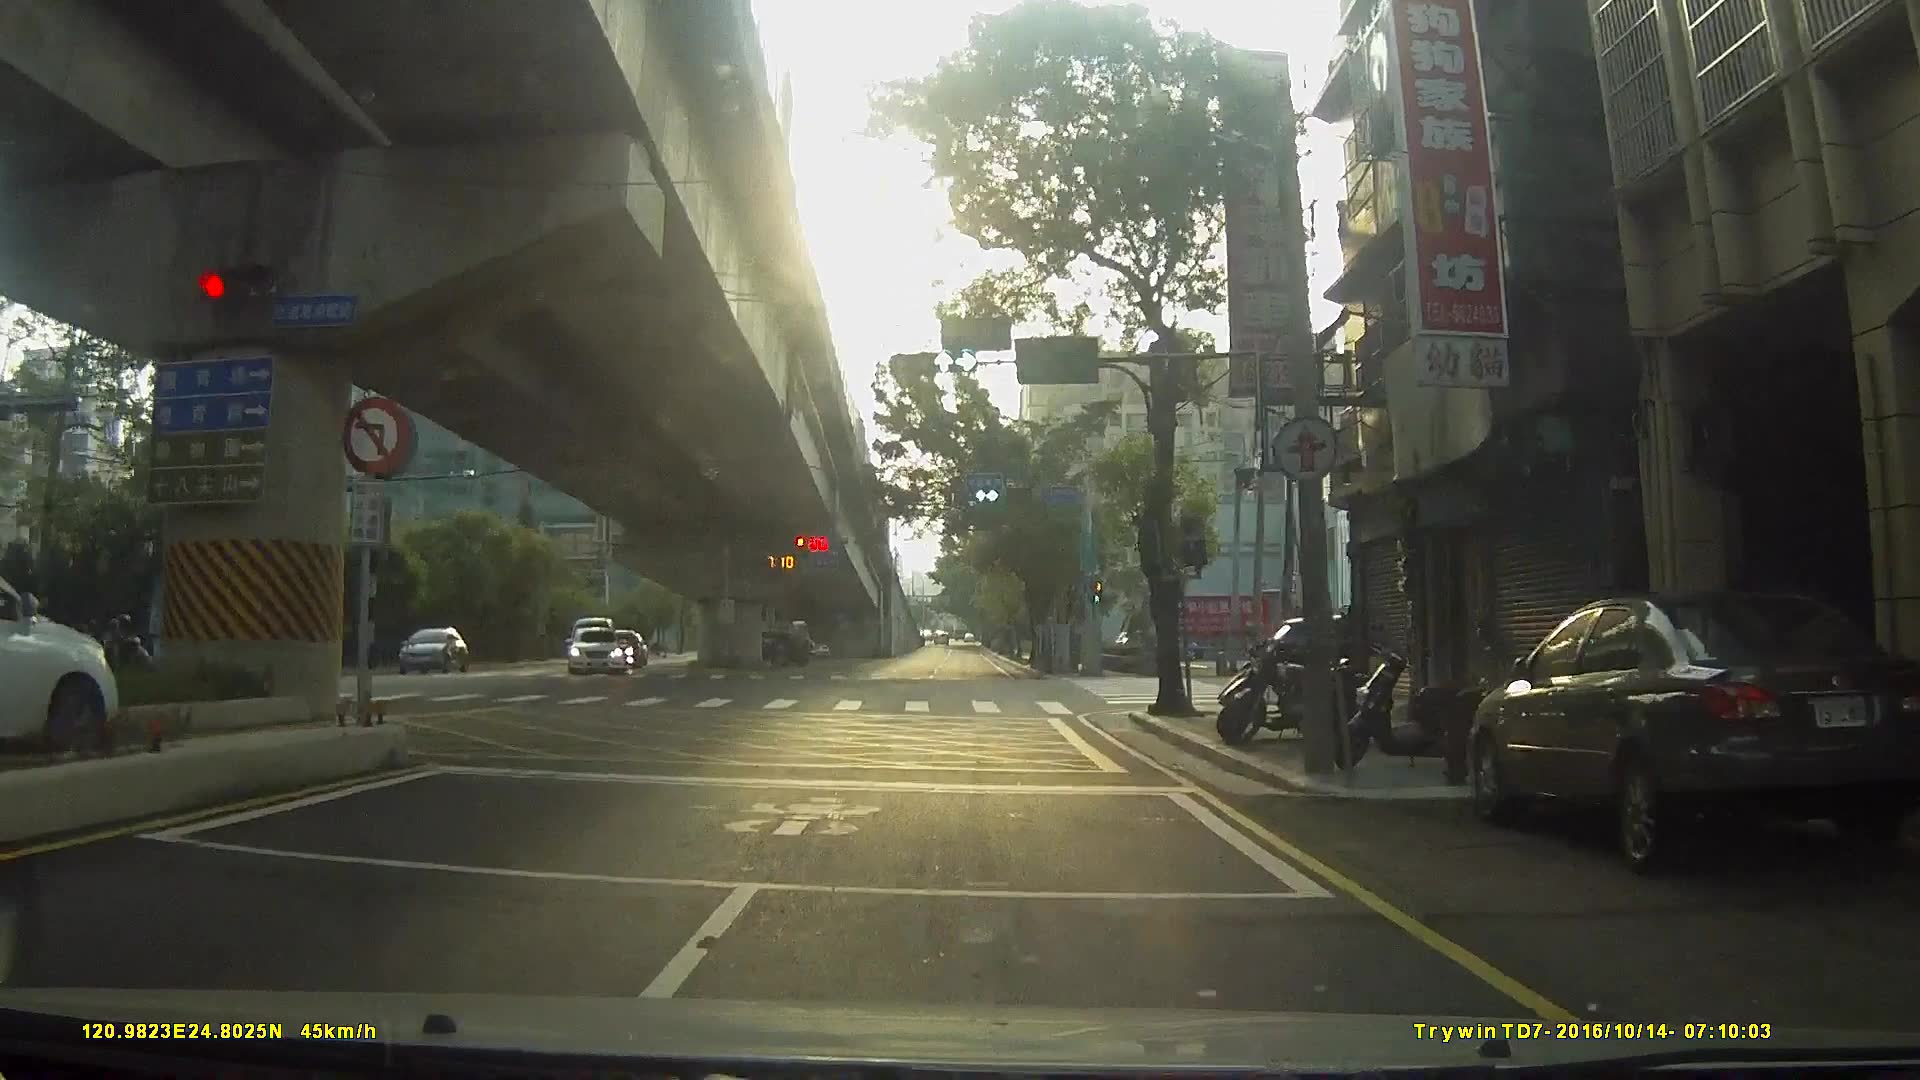vehicle: (1451, 578, 1913, 887), (1, 567, 131, 769), (388, 624, 463, 675), (560, 626, 622, 676), (741, 626, 812, 670)
